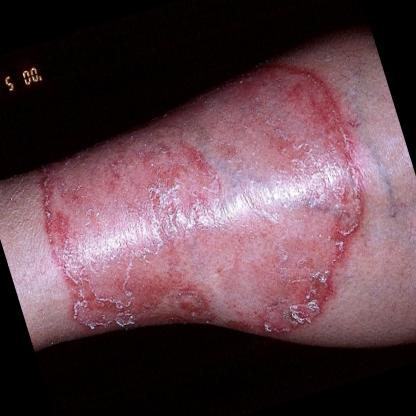Psoriasis: (11, 43, 404, 401)
